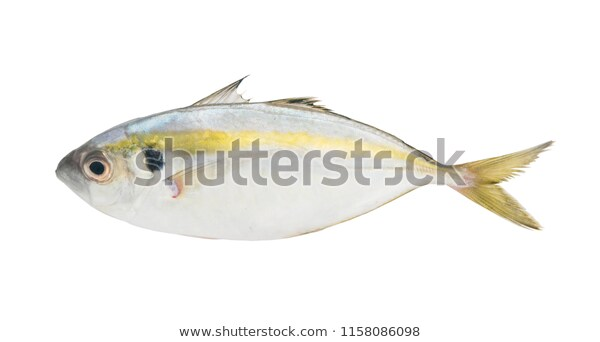Ikan Selar: (54, 101, 547, 238)
